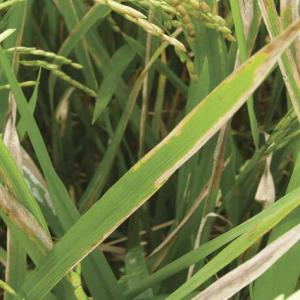Bacterial_Blight: (141, 85, 234, 197)
